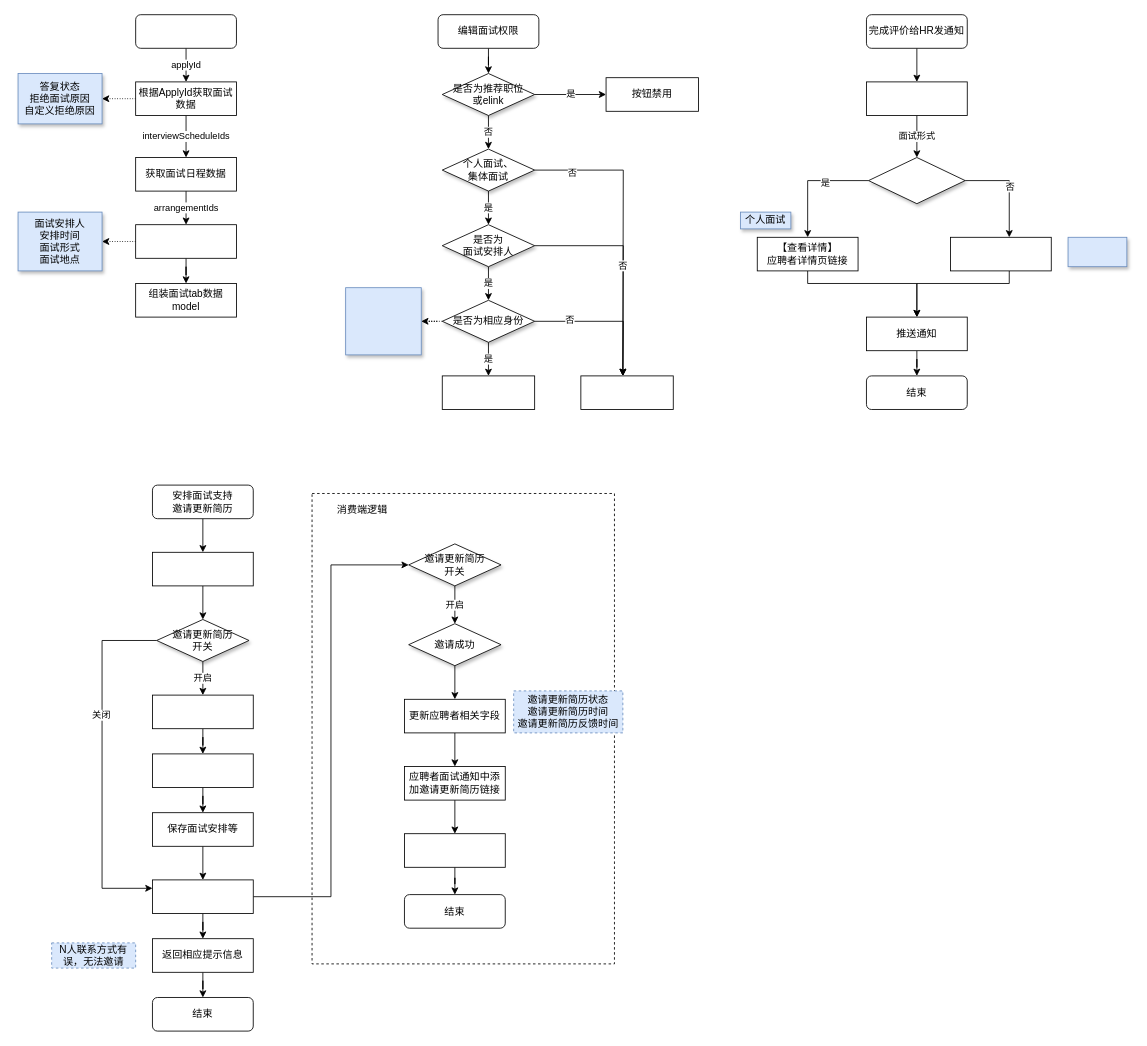
This 1147x1046 diagram has some shape labels left out. The centre of each missing label's shape, as x and y in pixels:
【查看详情】 面试详情页链接: the point at 1000,253
判断是否为 个人面试: the point at 917,181
安排面试: the point at 202,568
招聘管理员 招聘专员 业务经理 用人部门主管 实施顾问: the point at 383,322
推送安排面试消息: the point at 202,896
无权限: the point at 626,392
有权限: the point at 488,392
校验应聘者联系方式: the point at 202,711
消费端Handle: the point at 916,98
添加邀请更新简历 操作记录: the point at 454,850
简历模板、有效时间用户级记忆: the point at 202,770
获取面试安排数据: the point at 185,241
集体面试 分组面试: the point at 1098,253
面试tab相关字段获取: the point at 185,31
